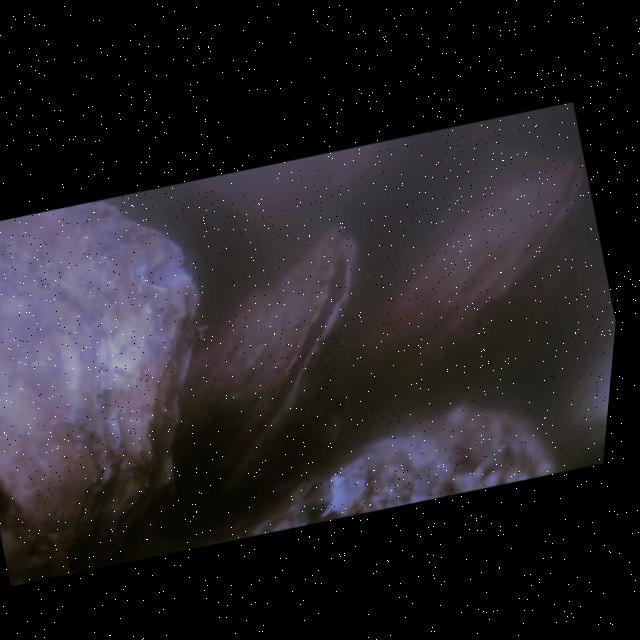Oyster-Closed: (0, 202, 205, 561), (353, 150, 590, 384), (176, 224, 363, 497)
Oyster-Indeterminate: (241, 400, 560, 534)
